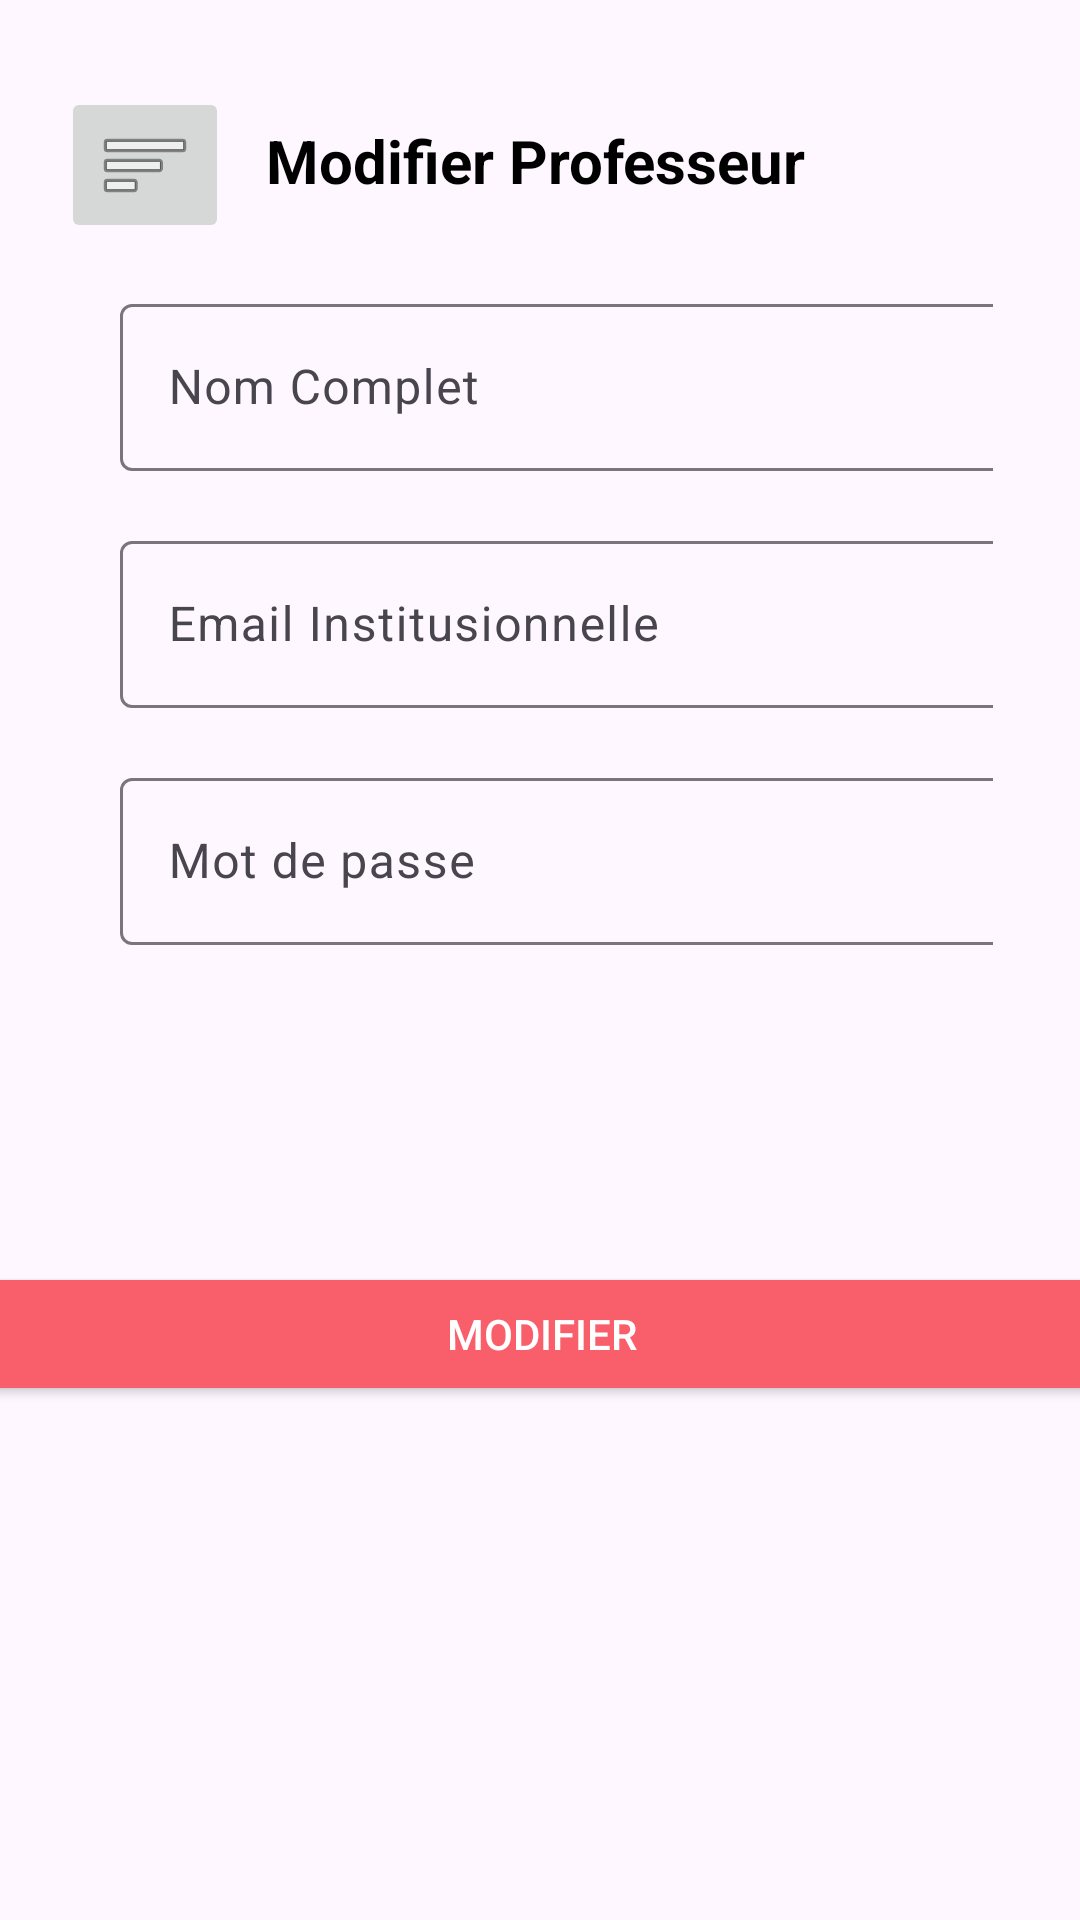

Named icons in this screenshot (1080 x 1920) and their bounding boxes, (x1, y1, x2, y2):
sort by size: (73, 105, 217, 225)
